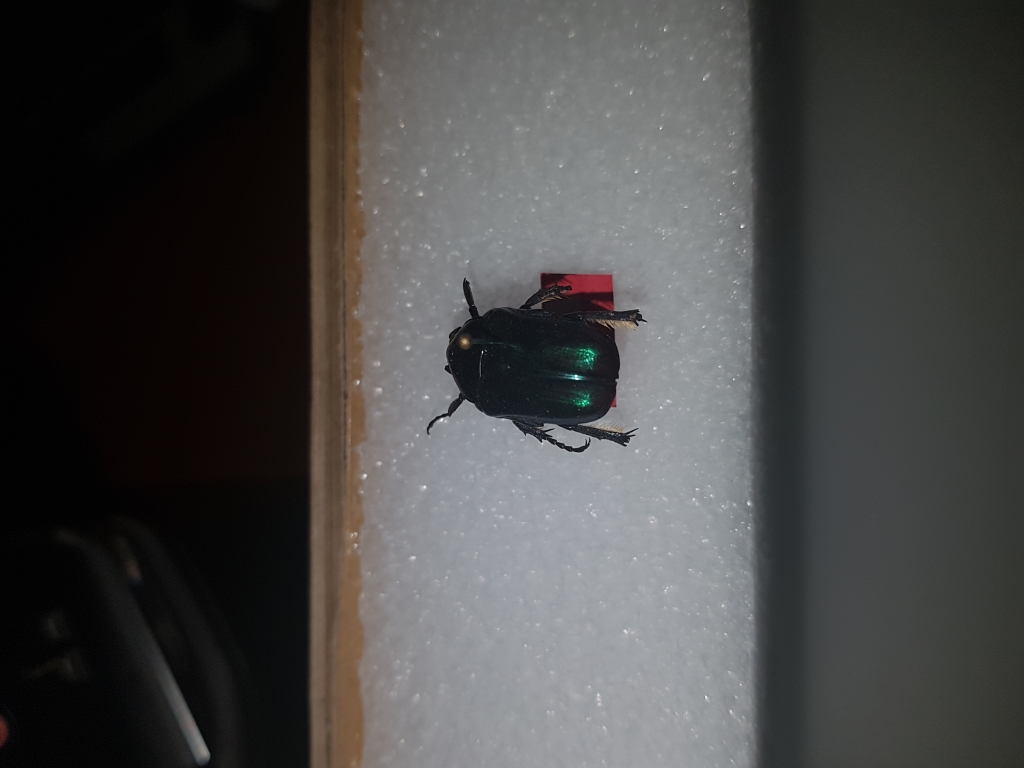Protaetia_besucheti: (405, 267, 666, 454)
